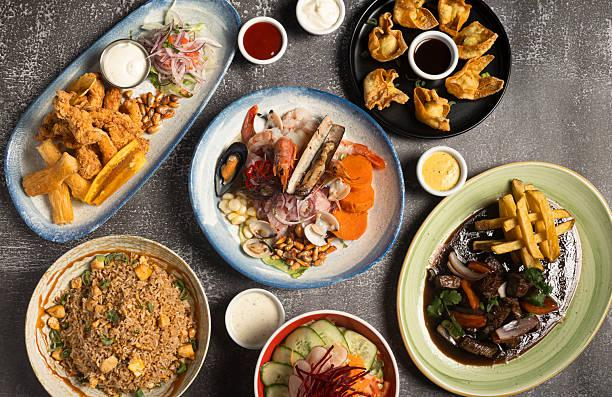Braised Crucian Carp: (5, 1, 237, 242), (394, 161, 611, 395), (188, 85, 399, 288), (23, 233, 207, 395), (347, 0, 507, 141), (252, 309, 399, 396), (99, 38, 152, 89)
